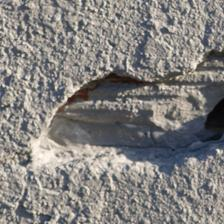Crack: (31, 50, 224, 172)
